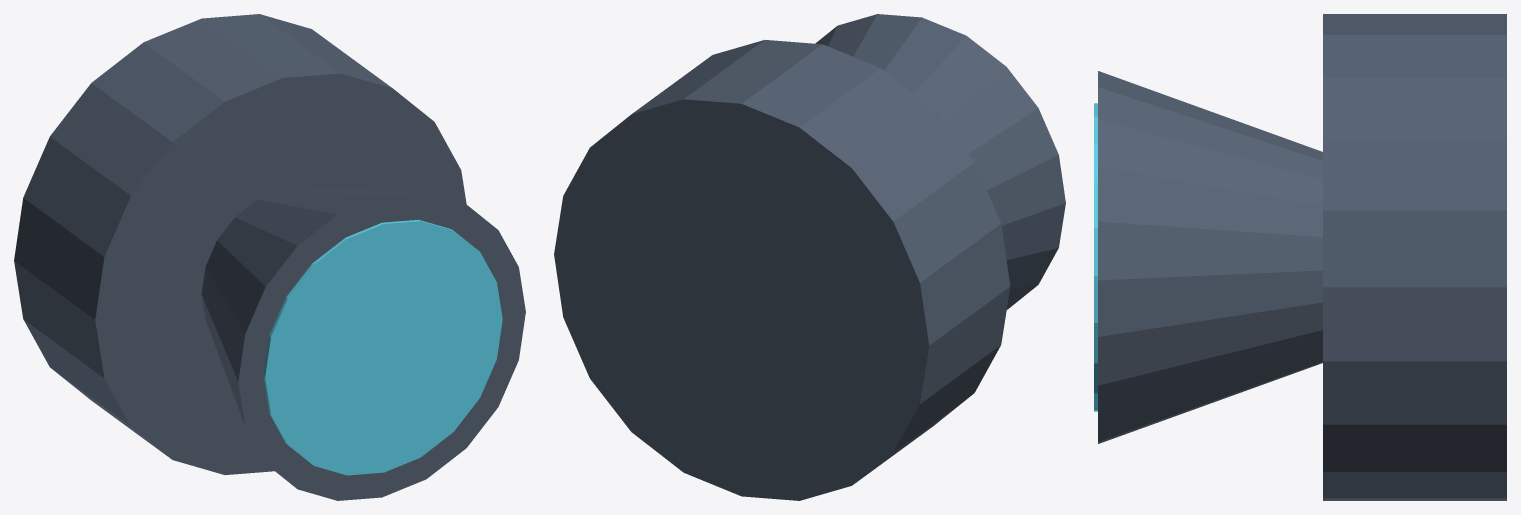
Rendered from SM_Propulseur_Manoeuvre.obj.
The picture shows the model from 3 angles, left to right: view 1: azimuth 30°, elevation 25°; view 2: azimuth 150°, elevation 25°; view 3: azimuth 270°, elevation 25°; orthographic projection. The views are drawn at different scales.
Size of the model in its own units: 600 by 600 by 505.
